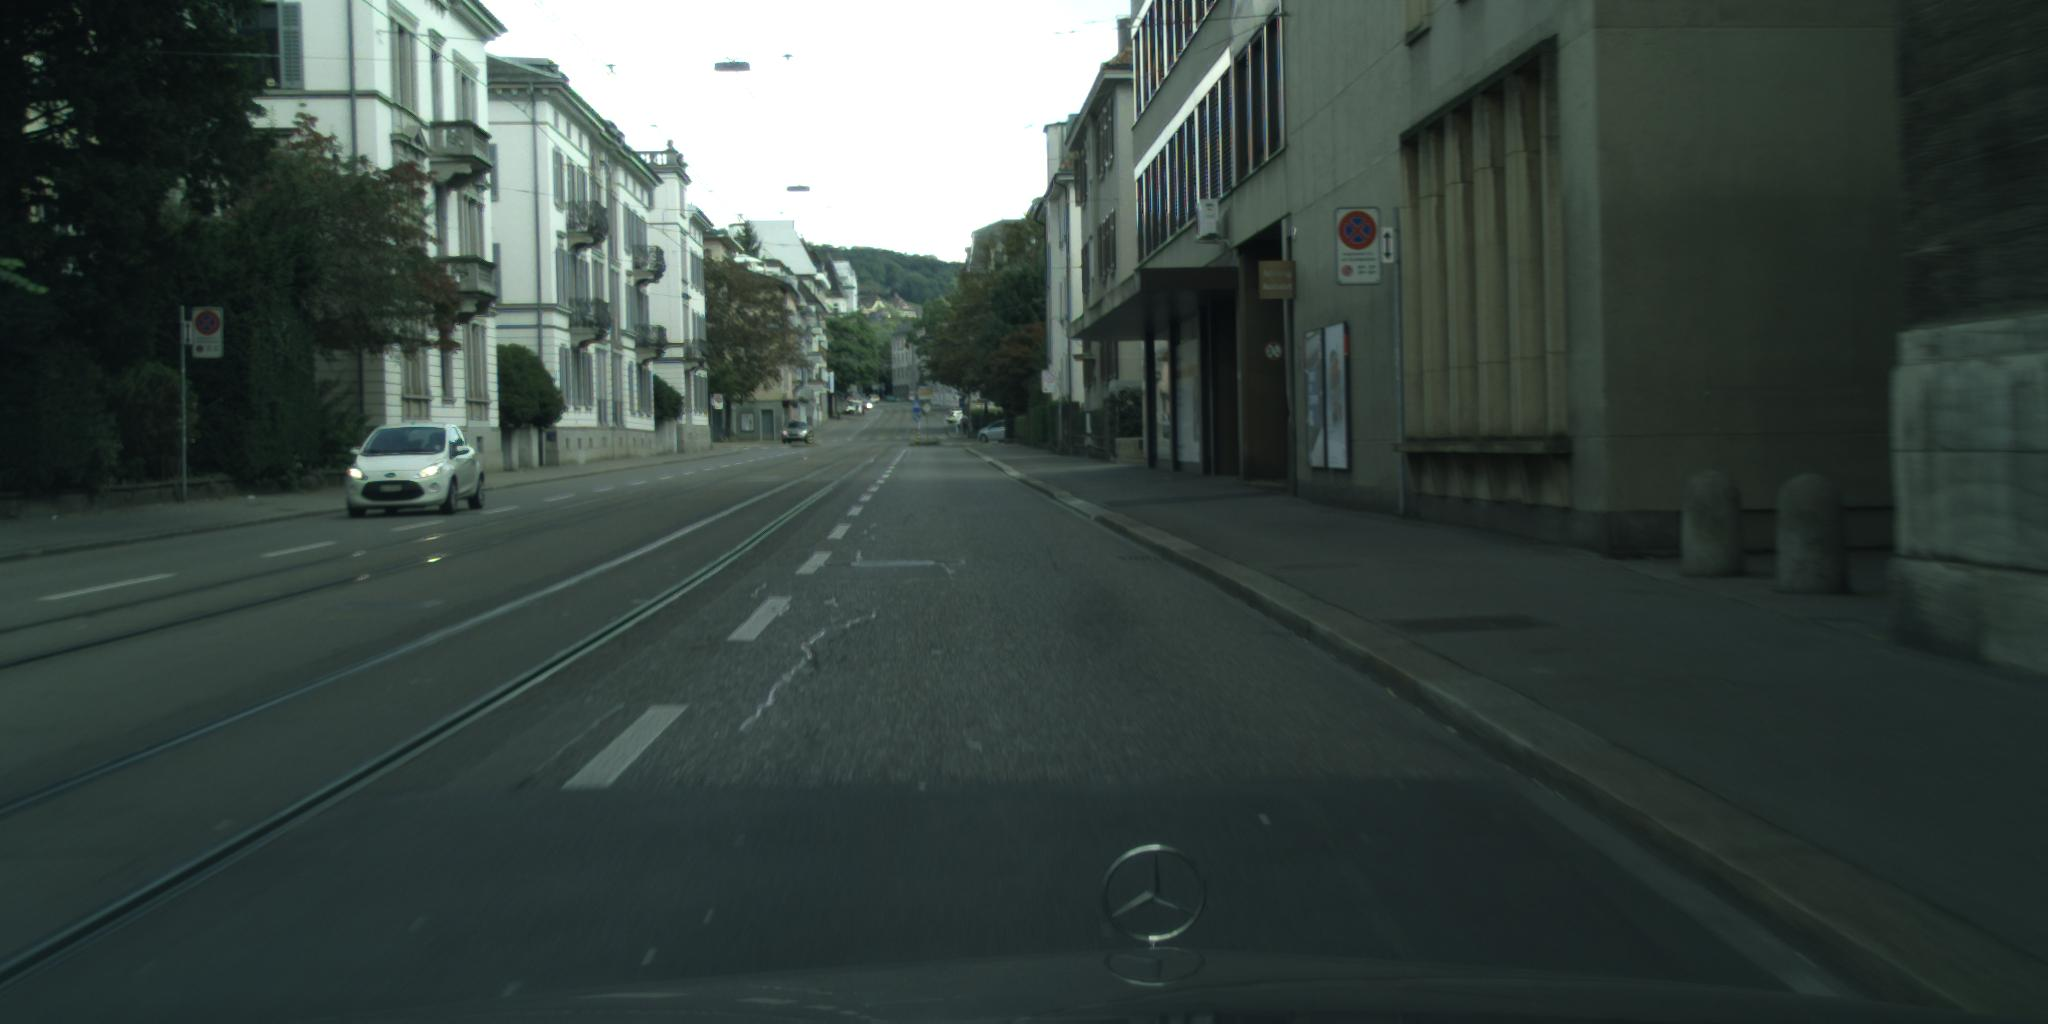car: (345, 424, 488, 519), (977, 417, 1010, 445), (782, 422, 812, 445), (846, 401, 865, 417)
